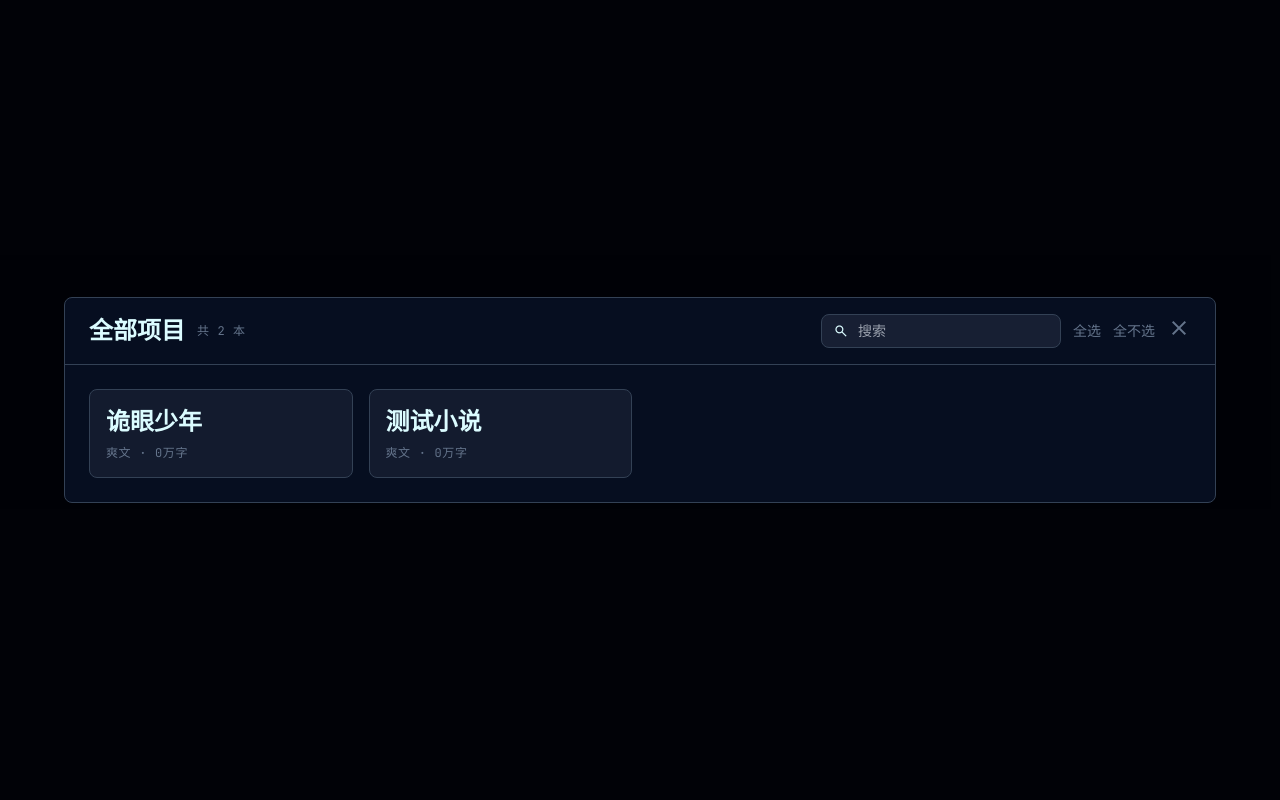
Test case: BookShelfModal default-select mode › clicking a card body toggles selection and reveals the bulk-action-bar
Click the button "诡眼少年 爽文 · 0万字".
click(172, 453)  # box [89,389,352,478]
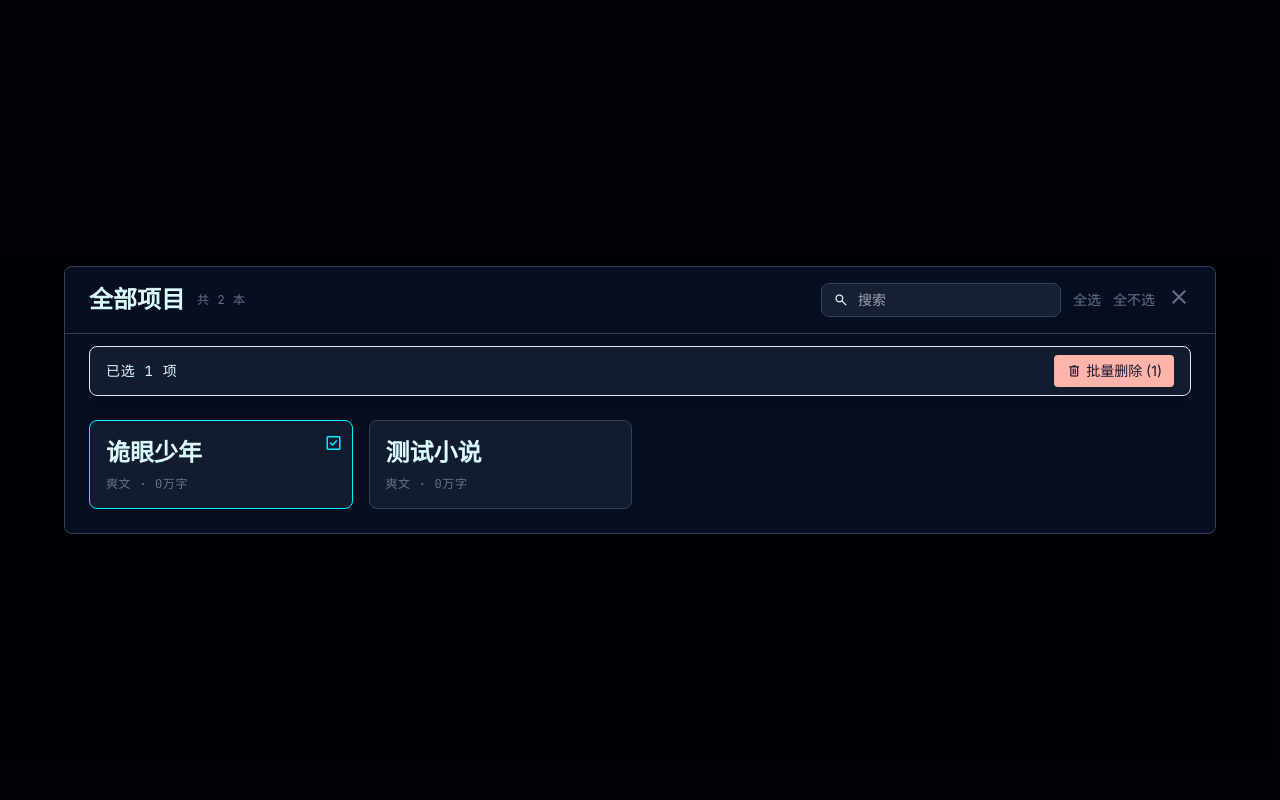
Result: the element with test id "bulk-action-bar" is shown at [89,346,1191,396]
Result: the text "已选 1 项" is shown at [106,361,177,381]
